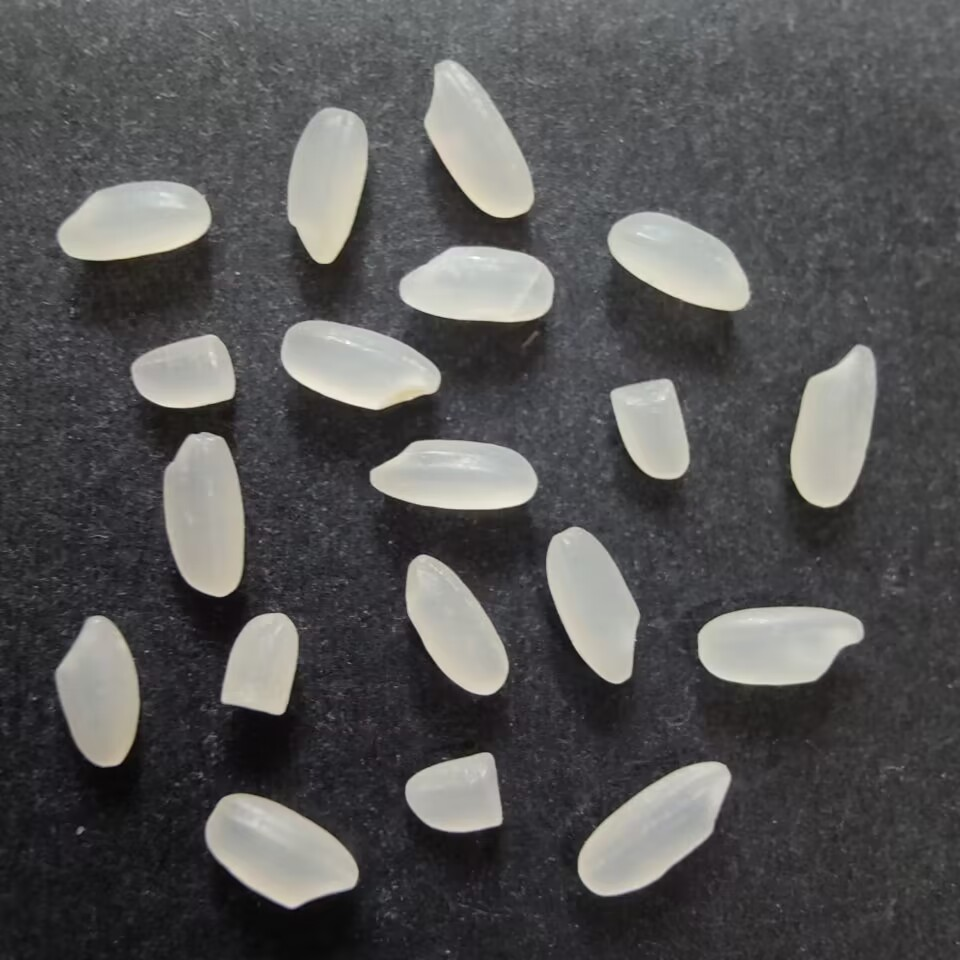broken: (607, 376, 695, 483), (399, 746, 503, 836), (128, 329, 236, 412), (217, 611, 300, 719)
rice: (577, 754, 733, 899), (201, 791, 364, 916), (423, 56, 539, 220), (783, 340, 880, 511), (542, 524, 644, 686), (273, 318, 443, 415), (401, 549, 510, 700), (603, 207, 754, 312), (156, 427, 247, 597), (692, 604, 869, 691), (51, 608, 139, 774), (52, 179, 215, 268), (284, 103, 370, 267), (395, 242, 559, 325)
